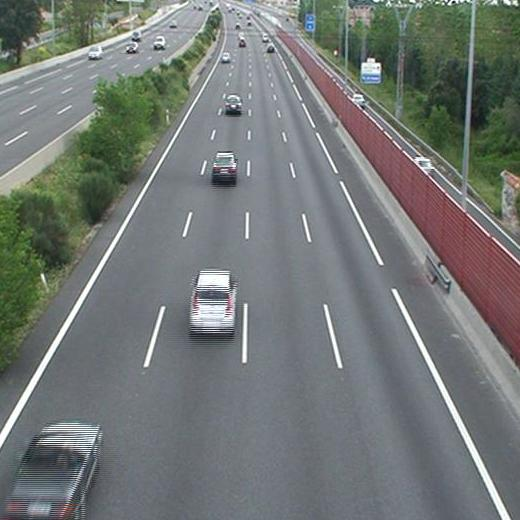car: (5, 423, 100, 519), (189, 270, 236, 333), (213, 153, 237, 180), (225, 96, 242, 113), (266, 43, 274, 52), (221, 53, 229, 62), (239, 39, 245, 46)
